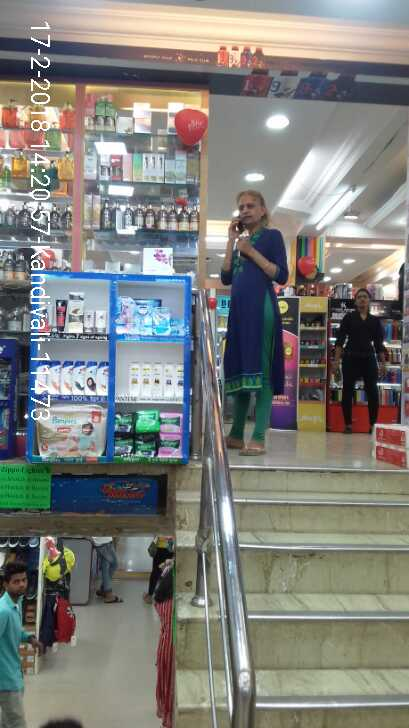venus: (120, 296, 136, 331), (136, 306, 155, 331), (155, 306, 171, 334), (171, 319, 187, 334)
